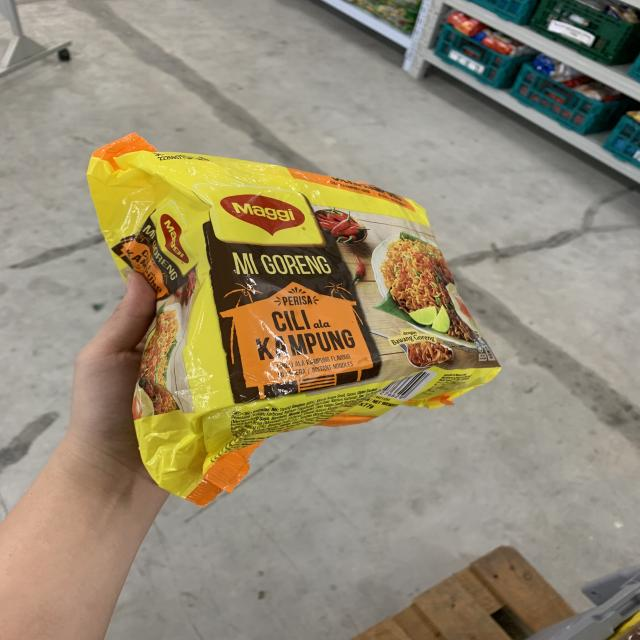object_name: (132, 163, 491, 421)
